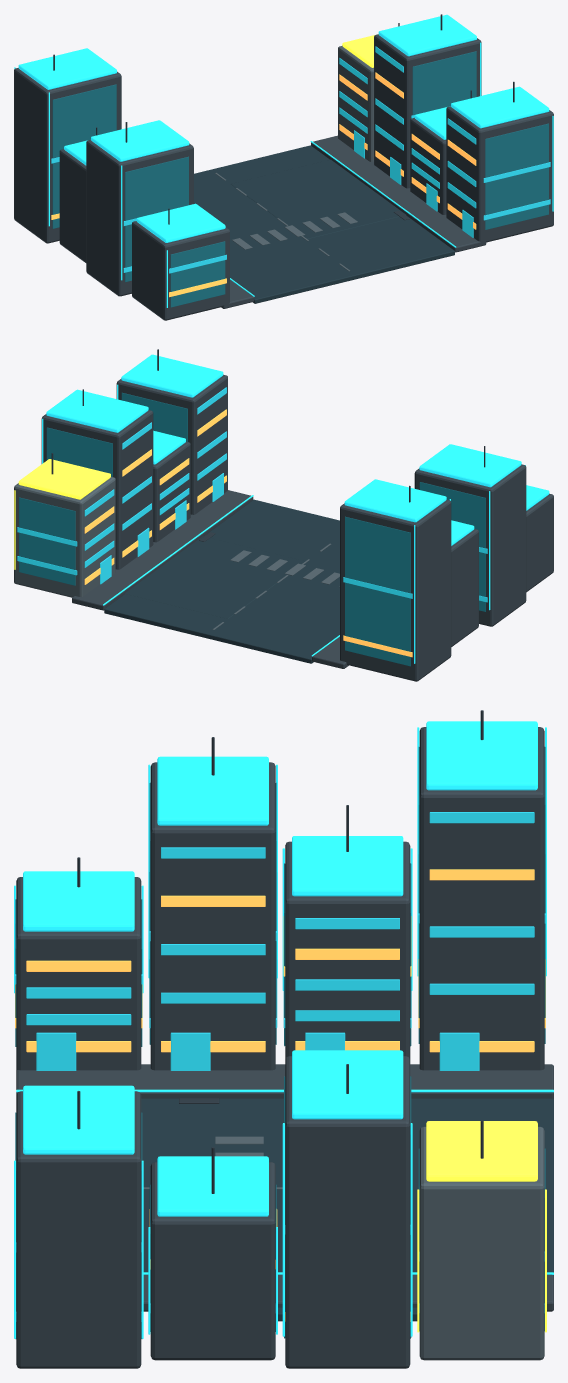
File: corner_left_lod0.glb
3 renders of one model, top to bottom at view 1: azimuth 30°, elevation 25°; view 2: azimuth 150°, elevation 25°; view 3: azimuth 270°, elevation 25°, orthographic. The views are drawn at different scales.
Visible parts, largest first — view 1: ND_Batch_ND_CityConcrete, ND_Batch_ND_WetAsphalt, ND_Batch_ND_DarkGlass, ND_Batch_ND_CityCyanMuted, ND_Batch_ND_NeonGlass, ND_Batch_ND_RoadEdge, ND_Batch_ND_CityConcreteLight, ND_Batch_ND_WarmWindow, ND_Batch_ND_PackageGold; view 2: ND_Batch_ND_CityConcrete, ND_Batch_ND_WetAsphalt, ND_Batch_ND_DarkGlass, ND_Batch_ND_CityCyanMuted, ND_Batch_ND_CityConcreteLight, ND_Batch_ND_RoadEdge, ND_Batch_ND_NeonGlass, ND_Batch_ND_PackageGold, ND_Batch_ND_WarmWindow; view 3: ND_Batch_ND_CityConcrete, ND_Batch_ND_CityCyanMuted, ND_Batch_ND_CityConcreteLight, ND_Batch_ND_NeonGlass, ND_Batch_ND_WetAsphalt, ND_Batch_ND_RoadEdge, ND_Batch_ND_WarmWindow, ND_Batch_ND_PackageGold, ND_Batch_ND_DarkGlass, ND_Batch_ND_RooftopMetal.
Boxes of the visible parts, left/top/right/bottom form: ND_Batch_ND_CityConcrete: left=14, top=34, right=553, bottom=320; ND_Batch_ND_WetAsphalt: left=194, top=145, right=454, bottom=303; ND_Batch_ND_DarkGlass: left=52, top=51, right=548, bottom=307; ND_Batch_ND_CityCyanMuted: left=14, top=14, right=553, bottom=307; ND_Batch_ND_NeonGlass: left=51, top=46, right=550, bottom=273; ND_Batch_ND_RoadEdge: left=221, top=135, right=486, bottom=308; ND_Batch_ND_CityConcreteLight: left=215, top=45, right=373, bottom=271; ND_Batch_ND_WarmWindow: left=51, top=72, right=476, bottom=297; ND_Batch_ND_PackageGold: left=342, top=35, right=374, bottom=67; ND_Batch_ND_CityConcrete: left=41, top=374, right=553, bottom=681; ND_Batch_ND_WetAsphalt: left=104, top=499, right=339, bottom=663; ND_Batch_ND_DarkGlass: left=19, top=392, right=485, bottom=666; ND_Batch_ND_CityCyanMuted: left=42, top=354, right=549, bottom=663; ND_Batch_ND_CityConcreteLight: left=14, top=476, right=339, bottom=629; ND_Batch_ND_RoadEdge: left=72, top=490, right=348, bottom=668; ND_Batch_ND_NeonGlass: left=17, top=387, right=487, bottom=602; ND_Batch_ND_PackageGold: left=14, top=459, right=110, bottom=569; ND_Batch_ND_WarmWindow: left=84, top=409, right=412, bottom=657; ND_Batch_ND_CityConcrete: left=16, top=727, right=544, bottom=1368; ND_Batch_ND_CityCyanMuted: left=14, top=721, right=553, bottom=1338; ND_Batch_ND_CityConcreteLight: left=143, top=1126, right=544, bottom=1360; ND_Batch_ND_NeonGlass: left=15, top=812, right=545, bottom=1321; ND_Batch_ND_WetAsphalt: left=141, top=1098, right=553, bottom=1321; ND_Batch_ND_RoadEdge: left=16, top=1064, right=553, bottom=1311; ND_Batch_ND_WarmWindow: left=15, top=869, right=545, bottom=1321; ND_Batch_ND_PackageGold: left=417, top=1121, right=546, bottom=1332; ND_Batch_ND_DarkGlass: left=15, top=747, right=545, bottom=1338; ND_Batch_ND_RooftopMetal: left=77, top=710, right=483, bottom=1193.
Bounding box in the file's own units: 31.9 × 13.43 × 20.09.
